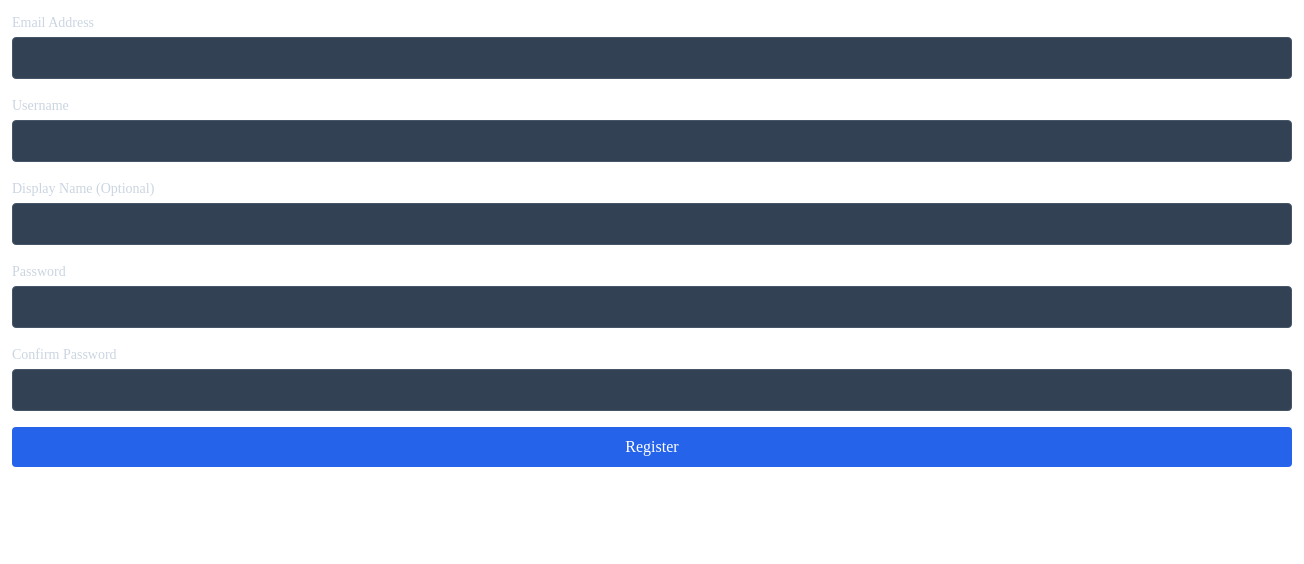
it: RegisterForm Component - Presentational Unit Suite › should intercept submit attempts locally and throw an alert banner if password fields mismatch
In the field labelled "Email Address": {"x": 652, "y": 58} x1=12 y1=37 x2=1292 y2=79, type "mismatch@odin.com"
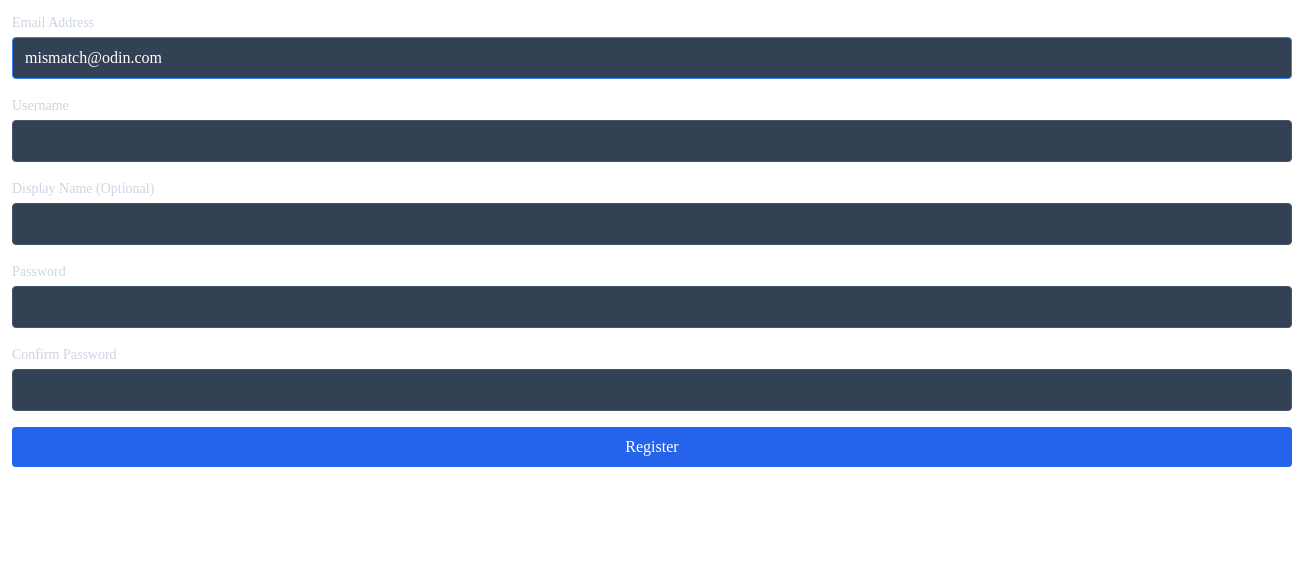
In the field labelled "Username": {"x": 652, "y": 141} x1=12 y1=120 x2=1292 y2=162, type "bad_match"
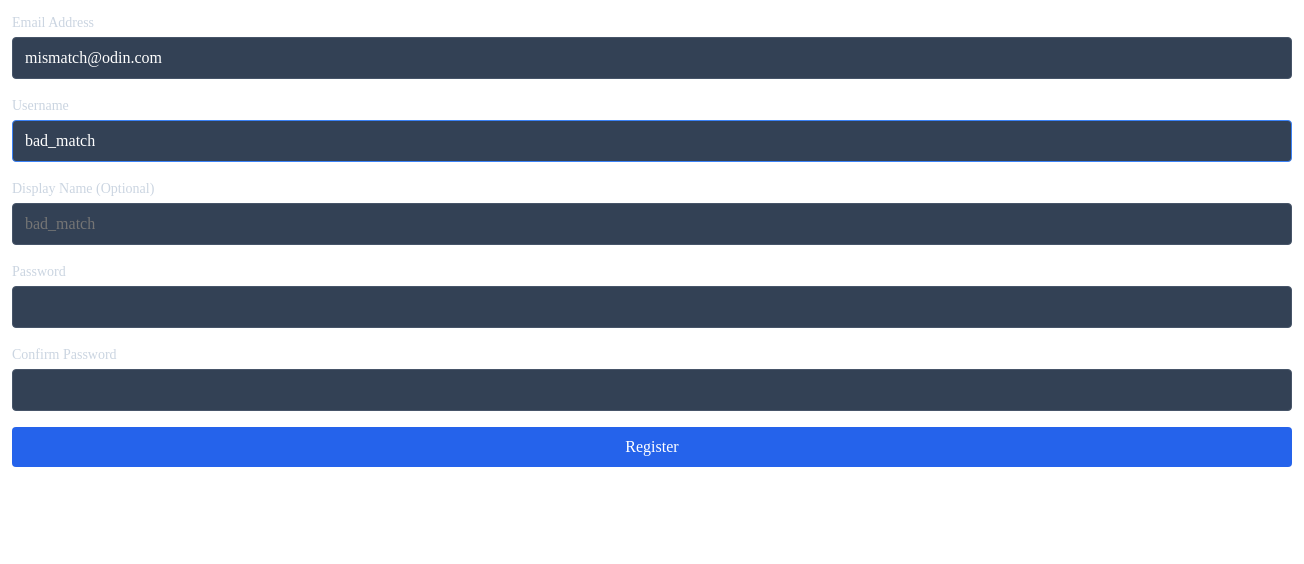
In the password field labelled "Password": {"x": 652, "y": 307} x1=12 y1=286 x2=1292 y2=328, type "password123"
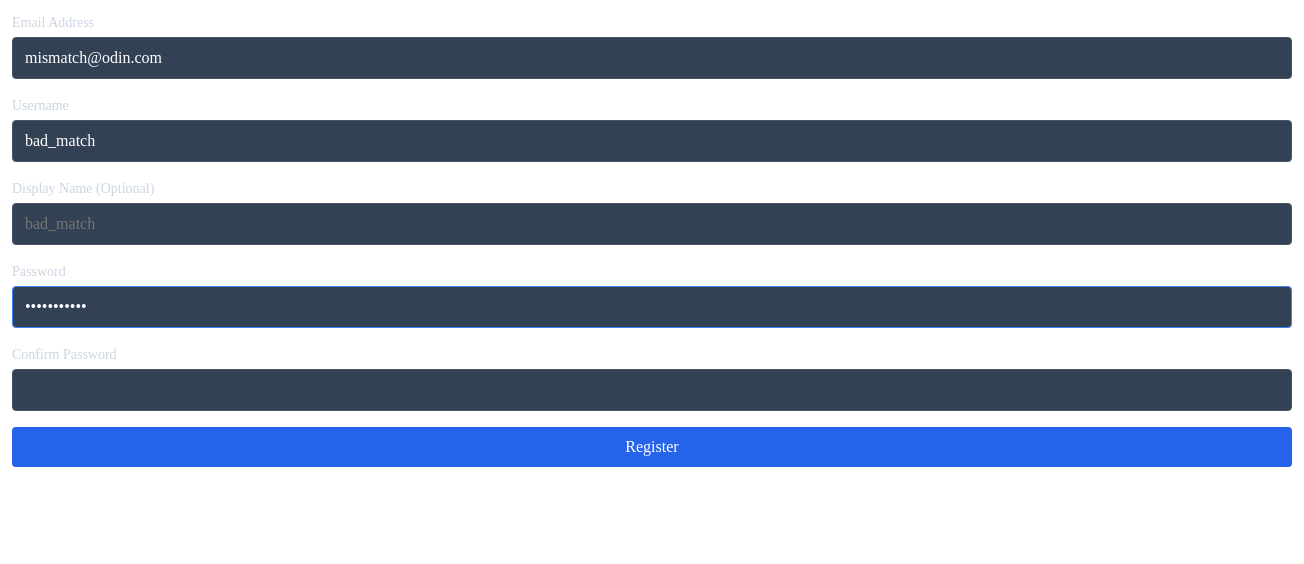
In the password field labelled "Confirm Password": {"x": 652, "y": 390} x1=12 y1=369 x2=1292 y2=411, type "password999"
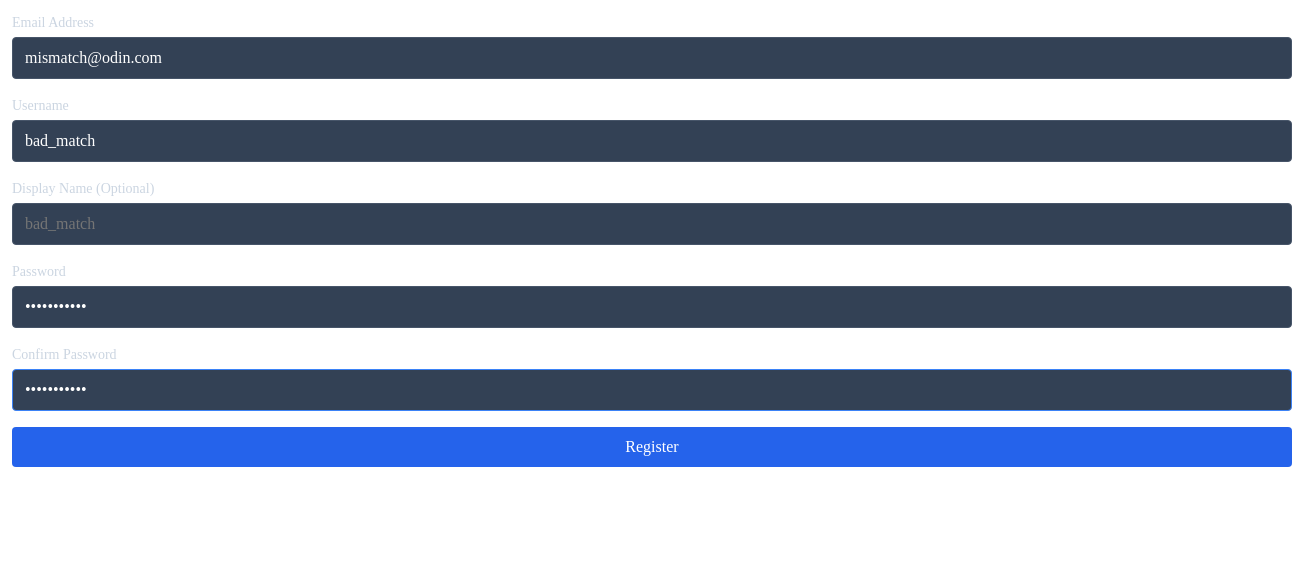
Click the button "Register": {"x": 652, "y": 447} x1=12 y1=427 x2=1292 y2=467
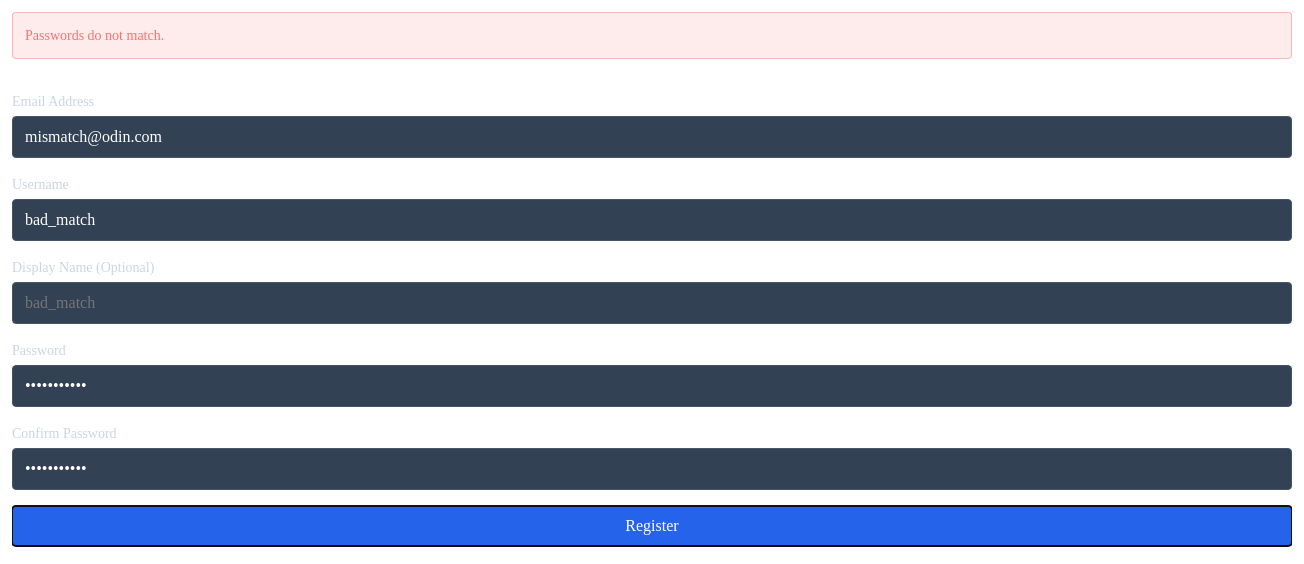
Now the message "Passwords do not match." is shown, box x1=12 y1=12 x2=1292 y2=59
Now the message reads "Passwords do not match.", box x1=25 y1=28 x2=164 y2=43
